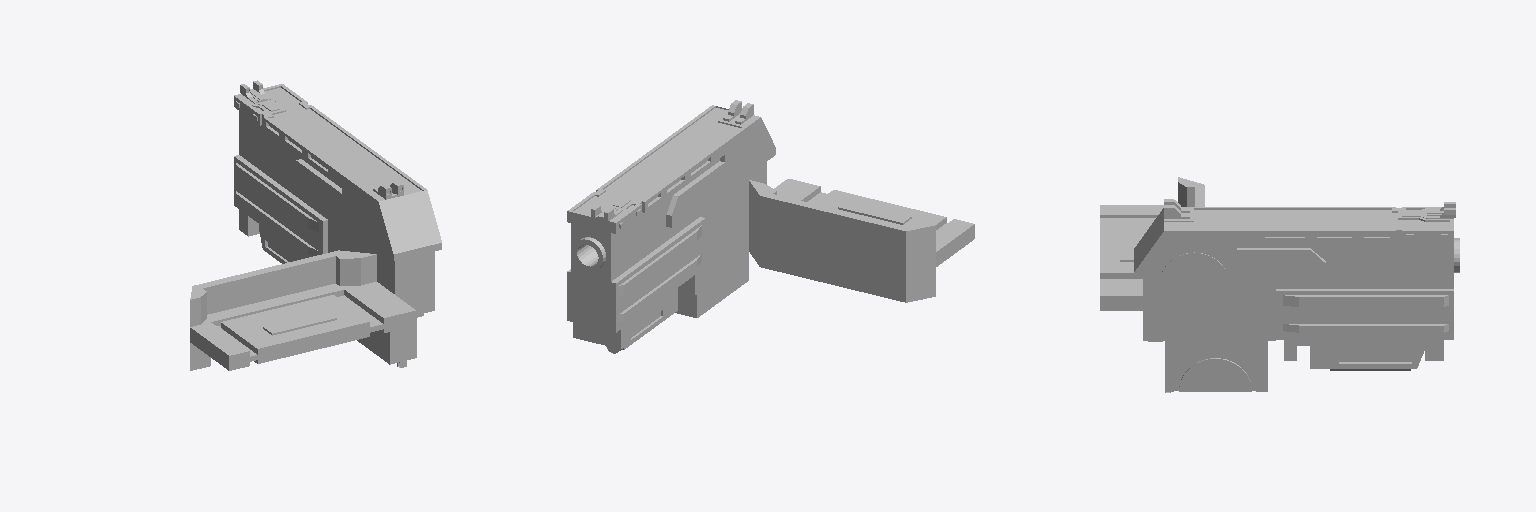
File: tenmm pistol.obj
The picture shows the model from 3 angles: view 1: azimuth 30°, elevation 25°; view 2: azimuth 150°, elevation 25°; view 3: azimuth 270°, elevation 25°; orthographic projection.
Parts seen in each view (by area): view 1: Model; view 2: Model; view 3: Model.
Part boxes in pixels (left/top/right/bottom): Model: left=190, top=80, right=441, bottom=370; Model: left=567, top=100, right=974, bottom=353; Model: left=1100, top=177, right=1459, bottom=392.
Size of the model in its own units: 6.6 by 4.96 by 8.83.